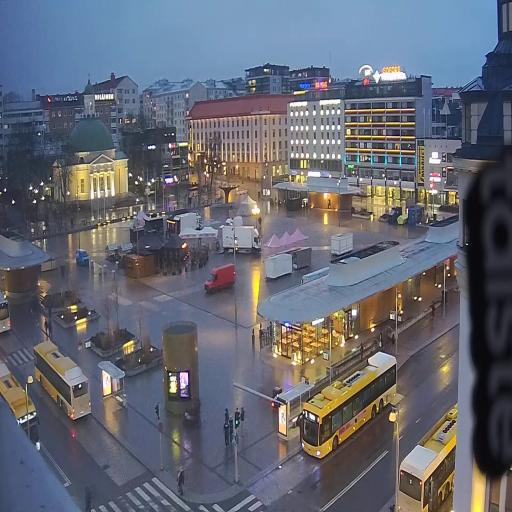bus: (298, 342, 401, 466), (394, 392, 462, 512), (32, 333, 95, 421), (0, 352, 45, 458), (0, 278, 14, 344)
delivery: (218, 226, 264, 254), (204, 262, 238, 297), (171, 208, 203, 236), (74, 244, 93, 271), (222, 213, 248, 230)
